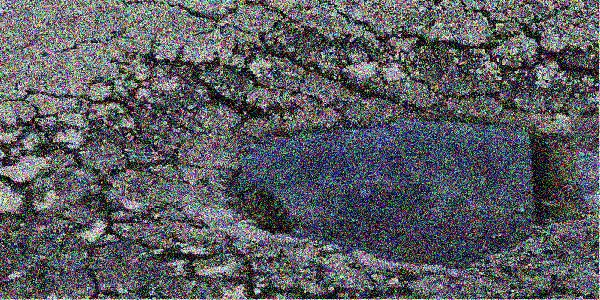pothole: (163, 51, 600, 271)
